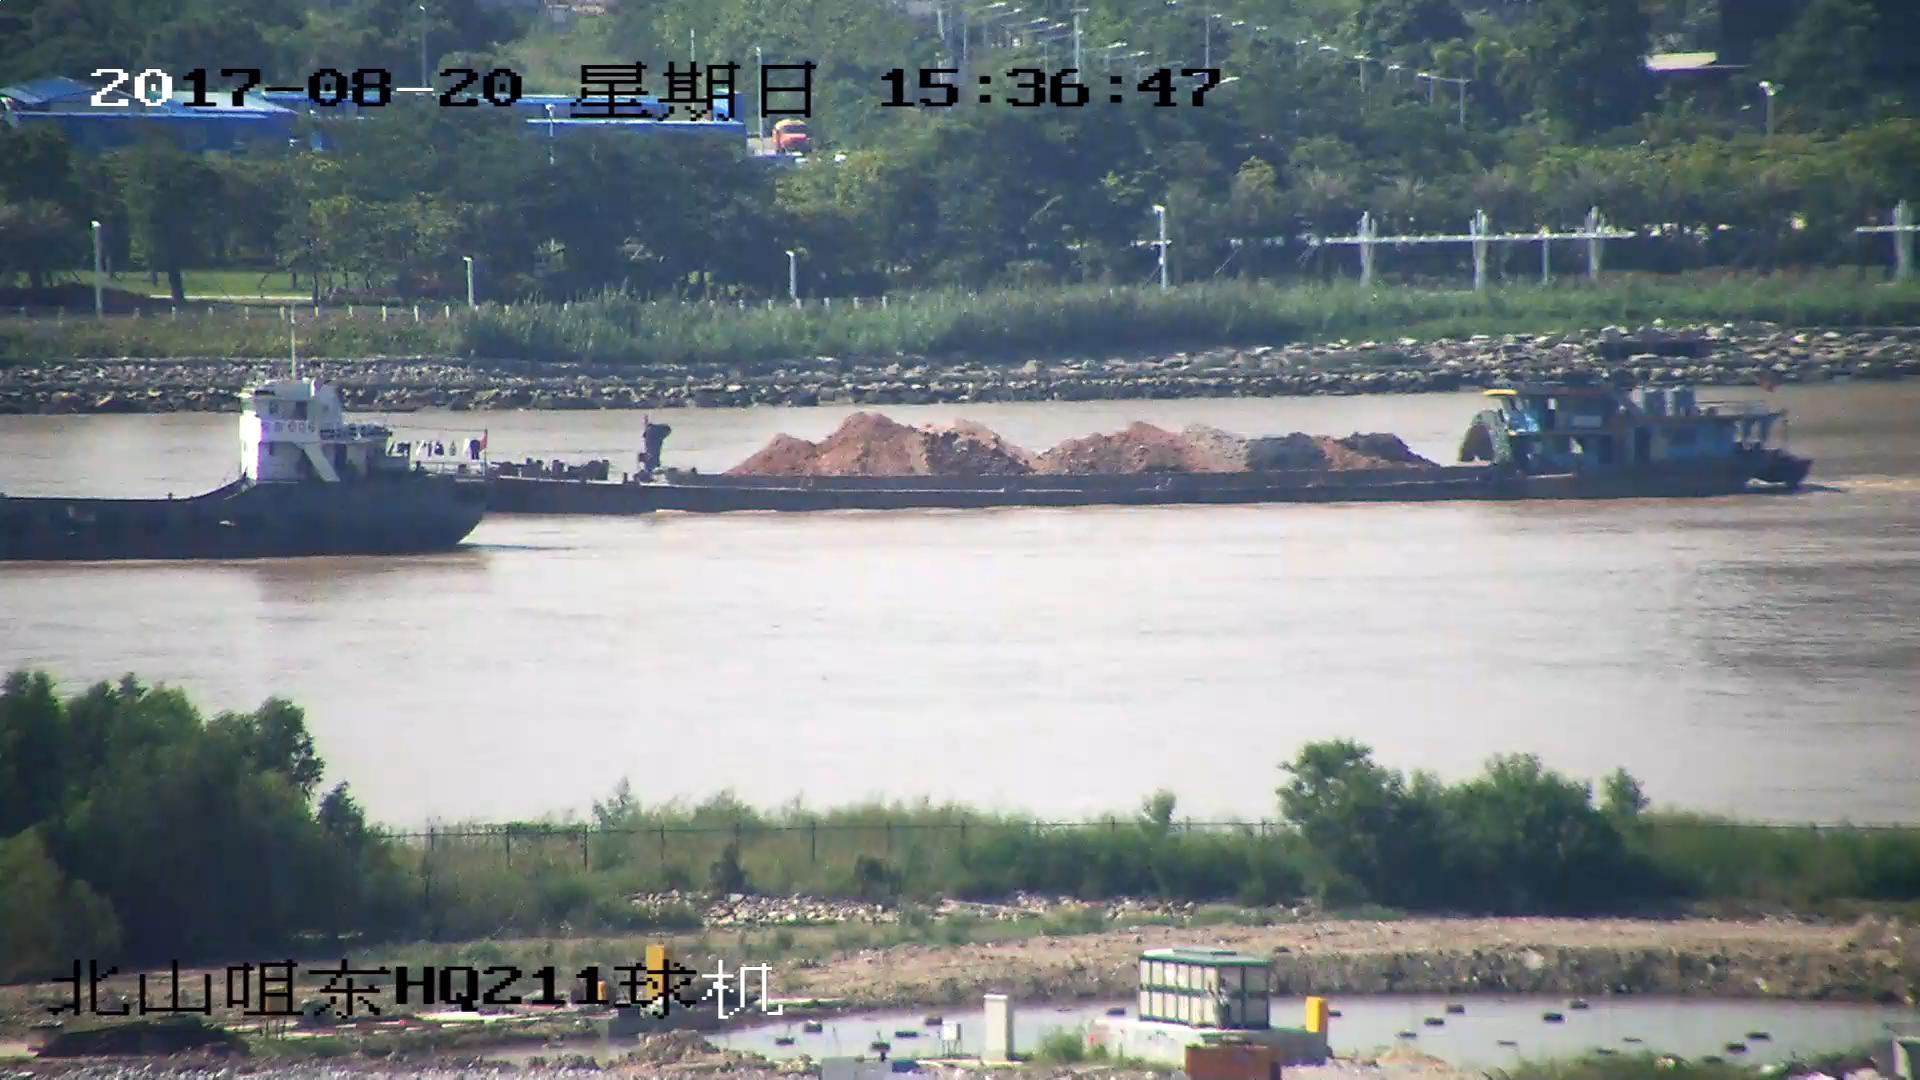Ship: (436, 347, 1824, 516), (3, 309, 502, 562)
